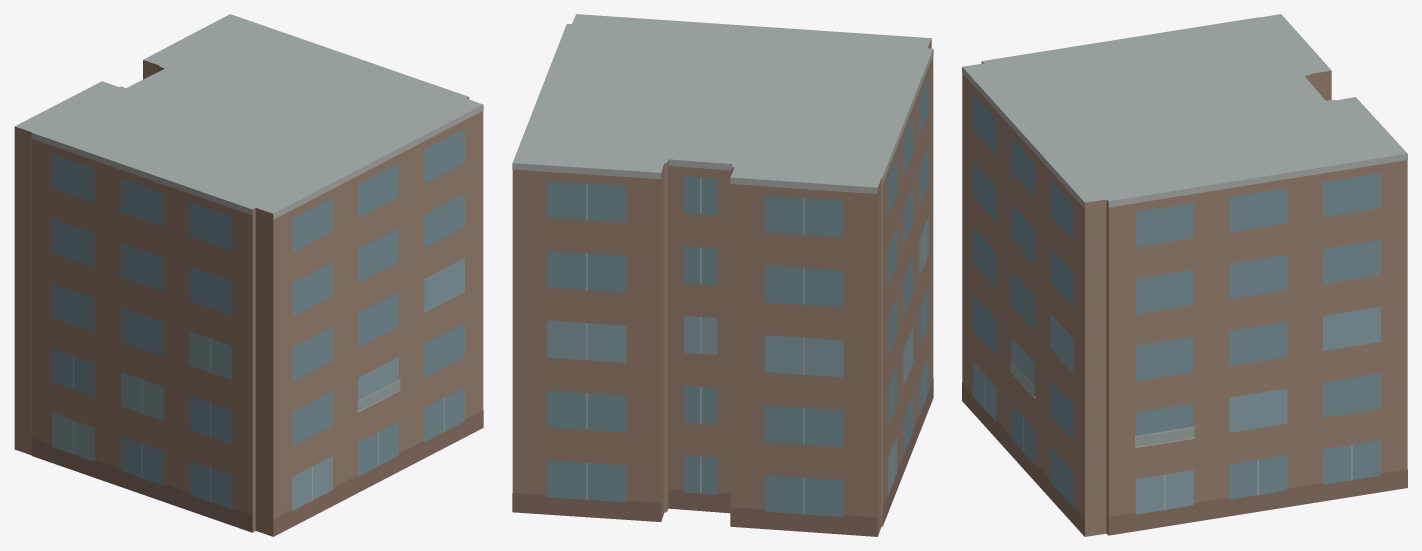
Rendered from survey-upis-32838966.glb.
3 views of the same model, side by side, from view 1: azimuth 30°, elevation 25°; view 2: azimuth 150°, elevation 25°; view 3: azimuth 270°, elevation 25° (orthographic). The views are drawn at different scales.
Visible parts, largest first — view 1: survey-upis-32838966.tmp; view 2: survey-upis-32838966.tmp; view 3: survey-upis-32838966.tmp.
Part boxes in pixels (box(x1,y1,x2,y2)): survey-upis-32838966.tmp: box(14, 14, 483, 536); survey-upis-32838966.tmp: box(512, 14, 933, 536); survey-upis-32838966.tmp: box(962, 14, 1407, 536).
Bounding box in the file's own units: 16 × 13.2 × 15.96.
